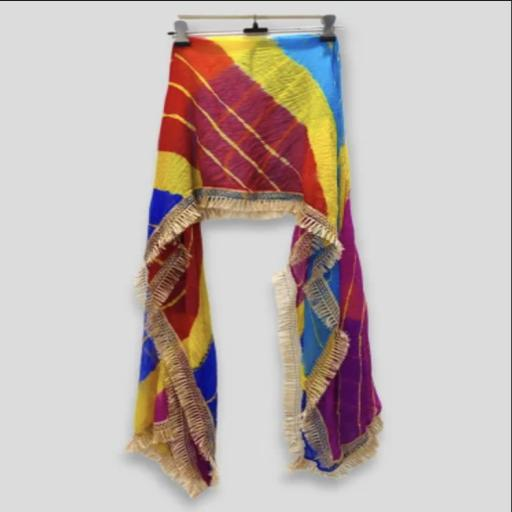Dupatta: (115, 18, 400, 494)
